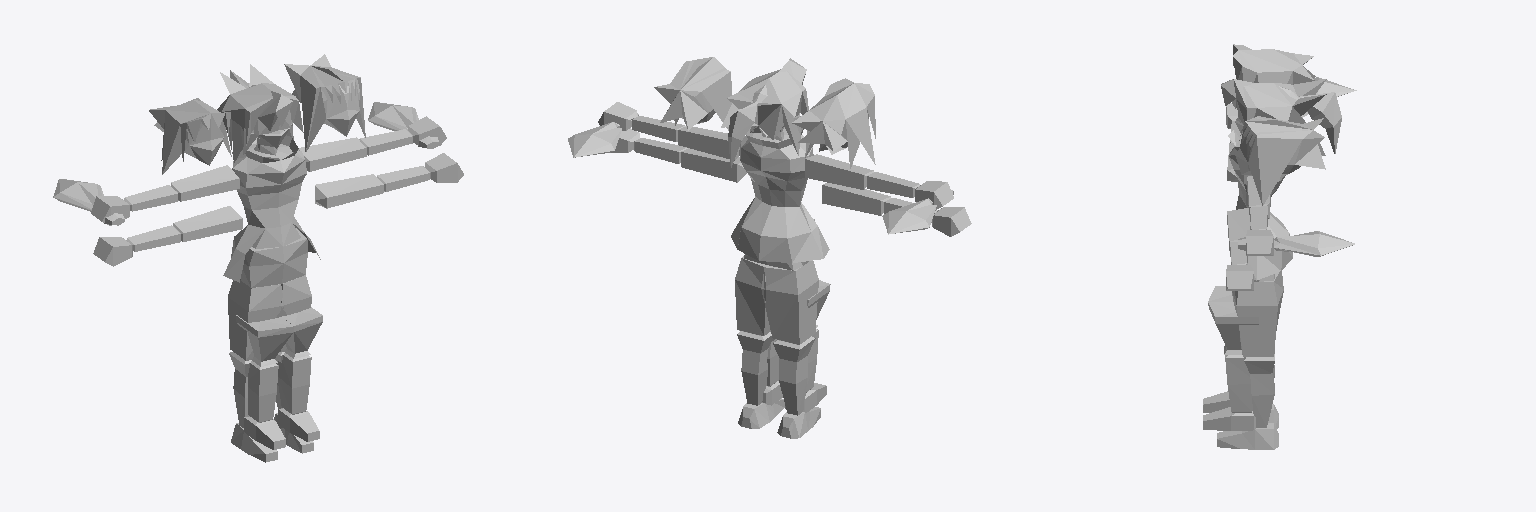
Rendered from PSX.obj.
The picture shows the model from 3 angles: view 1: azimuth 30°, elevation 25°; view 2: azimuth 150°, elevation 25°; view 3: azimuth 270°, elevation 25°; orthographic projection.
Visible parts, largest first — view 1: Cube.013, Plane.002, Plane.001, Cube.010, Cube.009, Plane, Cube.012, Cube.011, Plane.003, Cube.001, Cube.019, Cube.005 (+14 smaller); view 2: Cube.013, Plane.001, Plane.002, Cube.012, Plane, Cube.021, Cube.007, Cube.022, Cube.019, Plane.003, Cube.005, Cube.001 (+13 smaller); view 3: Plane.002, Cube.021, Plane.001, Plane, Cube.013, Plane.003, Cube.009, Cube.022, Cube, Cube.011, Cube.010, Cube.023 (+3 smaller).
Boxes of the visible parts, box(x1,y1,x2,y2) form: Cube.013: box(223, 135, 320, 287); Plane.002: box(284, 54, 365, 151); Plane.001: box(149, 98, 232, 174); Cube.010: box(248, 353, 311, 422); Cube.009: box(236, 307, 322, 366); Plane: box(217, 64, 303, 162); Cube.012: box(228, 280, 283, 360); Cube.011: box(244, 408, 319, 449); Plane.003: box(230, 70, 293, 154); Cube.001: box(315, 174, 383, 208); Cube.019: box(171, 165, 239, 201); Cube.005: box(173, 206, 242, 241); Cube.013: box(731, 127, 829, 270); Plane.001: box(792, 78, 875, 168); Plane.002: box(654, 57, 731, 130); Cube.012: box(761, 261, 818, 344); Plane: box(721, 69, 808, 155); Cube.021: box(735, 256, 770, 335); Cube.007: box(773, 336, 815, 415); Cube.022: box(737, 331, 774, 405); Cube.019: box(805, 154, 873, 189); Plane.003: box(728, 58, 806, 167); Cube.005: box(822, 183, 890, 215); Cube.001: box(681, 148, 746, 182); Plane.002: box(1235, 116, 1325, 205); Cube.021: box(1232, 271, 1283, 356); Plane.001: box(1233, 44, 1315, 84); Plane: box(1236, 79, 1326, 123); Cube.013: box(1228, 129, 1292, 281); Plane.003: box(1221, 79, 1341, 153); Cube.009: box(1208, 286, 1258, 354); Cube.022: box(1244, 354, 1274, 427); Cube: box(1238, 231, 1354, 256); Cube.011: box(1203, 391, 1255, 430); Cube.010: box(1225, 355, 1252, 412); Cube.023: box(1217, 423, 1278, 449).
Bounding box in the file's own units: 11.23 × 10.5 × 4.09.